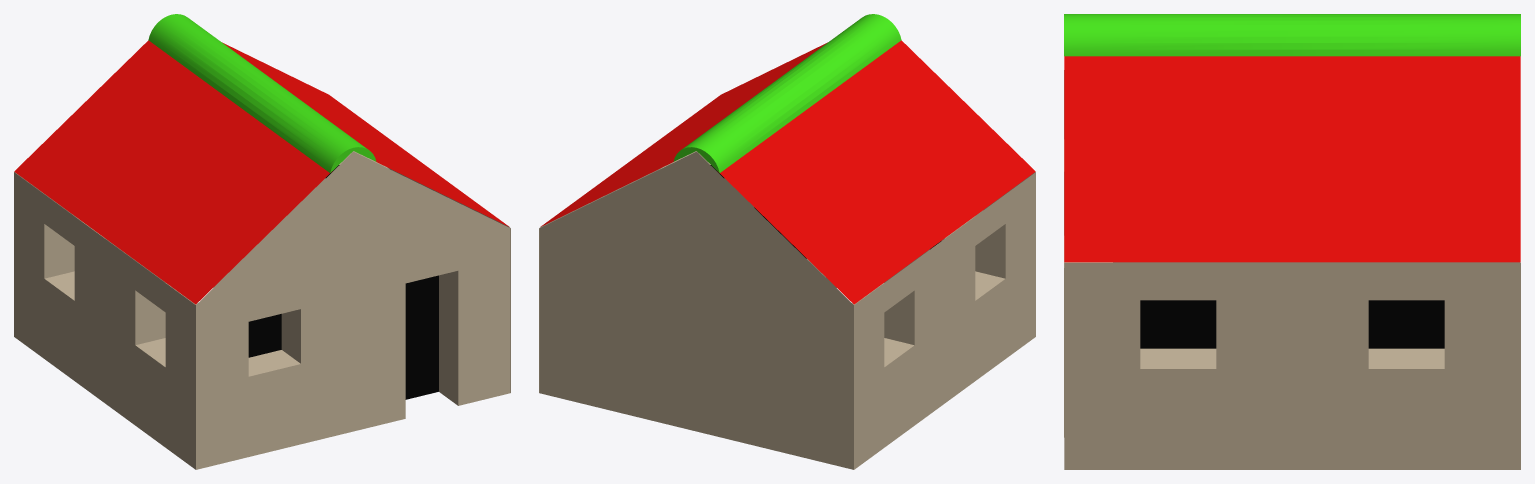
File: env_house_03.fbx
3 views of the same model, side by side, from view 1: azimuth 30°, elevation 25°; view 2: azimuth 150°, elevation 25°; view 3: azimuth 270°, elevation 25° (orthographic). The views are drawn at different scales.
Parts seen in each view (by area): view 1: Tri_Win_L_Final.003, Tri_D_R_Final.001, RoofFinal.005, RoofFinal.006, Window_Final.007, Window_Final.006; view 2: Tri_Wall_R_Final.001, Tri_Wall_L_Final.001, RoofFinal.006, RoofFinal.005, Window_Final.006, Window_Final.007; view 3: RoofFinal.006, RoofFinal.005, Window_Final.004, Window_Final.005.
Boxes of the visible parts, x1,y1,x2,y2 form: Tri_Win_L_Final.003: (196,152,353,469); Tri_D_R_Final.001: (353,151,510,431); RoofFinal.005: (105,80,509,304); RoofFinal.006: (14,14,418,237); Window_Final.007: (14,172,108,402); Window_Final.006: (105,239,197,469); Tri_Wall_R_Final.001: (696,152,853,469); Tri_Wall_L_Final.001: (539,151,696,431); RoofFinal.006: (540,80,944,304); RoofFinal.005: (631,14,1035,237); Window_Final.006: (941,172,1035,402); Window_Final.007: (852,239,944,469); RoofFinal.006: (1292,14,1520,262); RoofFinal.005: (1064,14,1292,262); Window_Final.004: (1292,263,1520,469); Window_Final.005: (1064,263,1292,469).
Bounding box in the file's own units: 200 × 172 × 200.
